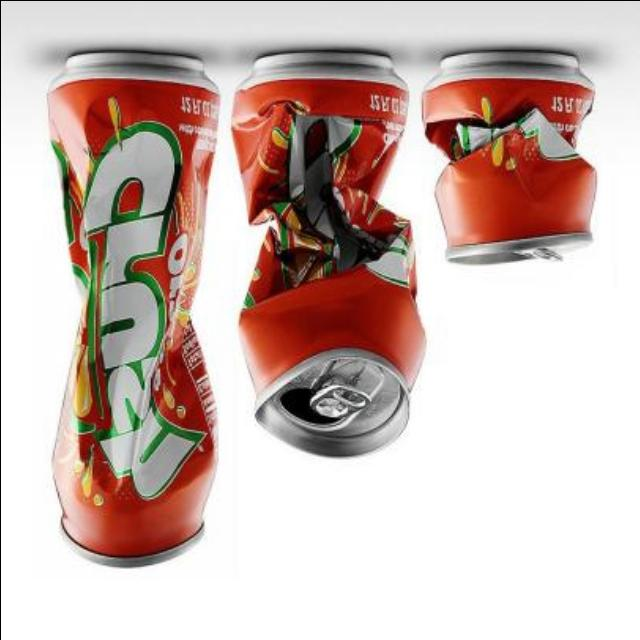metal: (46, 55, 216, 567), (230, 54, 421, 459), (421, 54, 593, 266)
